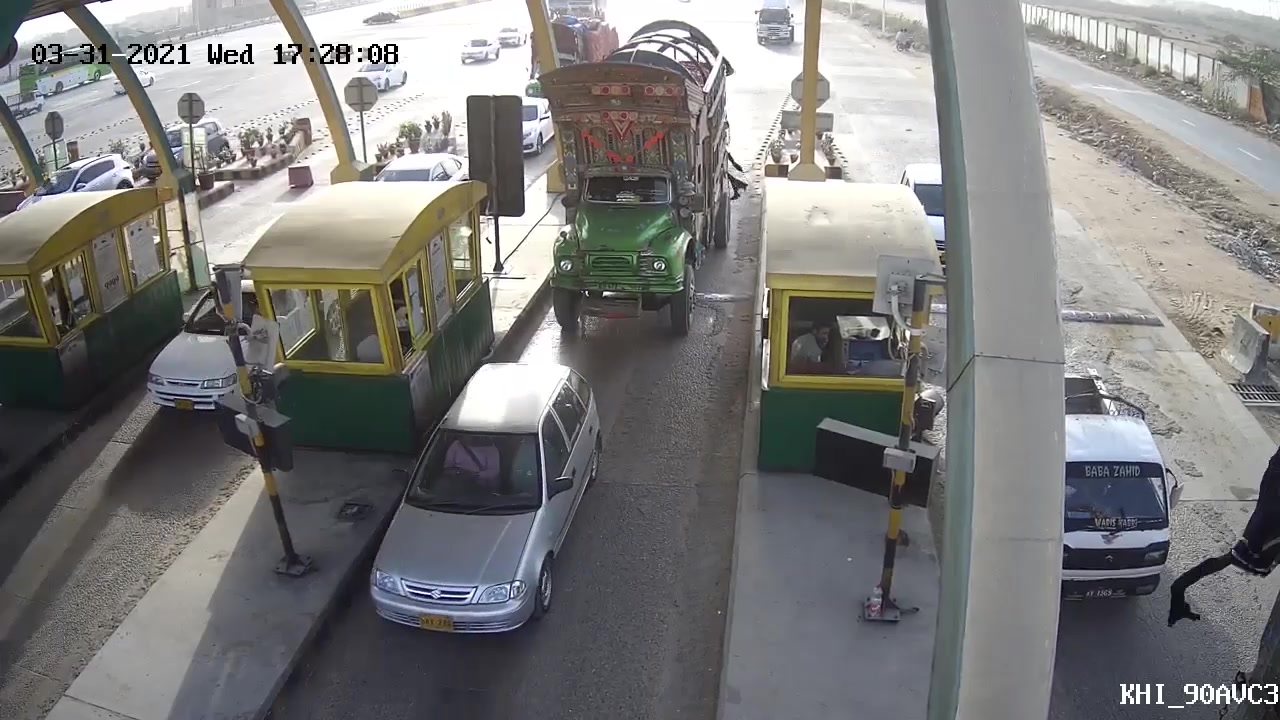F1: (363, 347, 603, 661)
